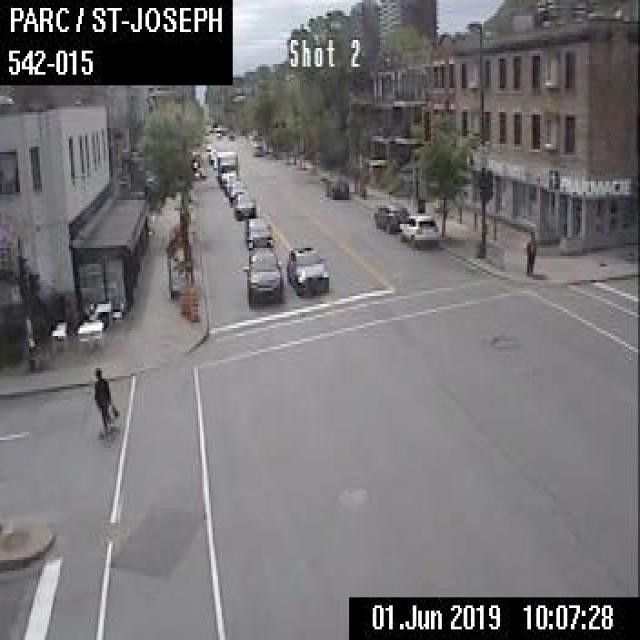construction: (177, 279, 189, 313), (189, 288, 198, 320)
pedestrian: (93, 365, 120, 434), (524, 229, 536, 275)
vehicle: (242, 245, 282, 305), (286, 245, 327, 295), (398, 212, 436, 245), (372, 202, 408, 232), (243, 215, 272, 248), (215, 148, 237, 186), (230, 190, 254, 218), (323, 176, 347, 197), (228, 178, 246, 202), (252, 142, 262, 155)
